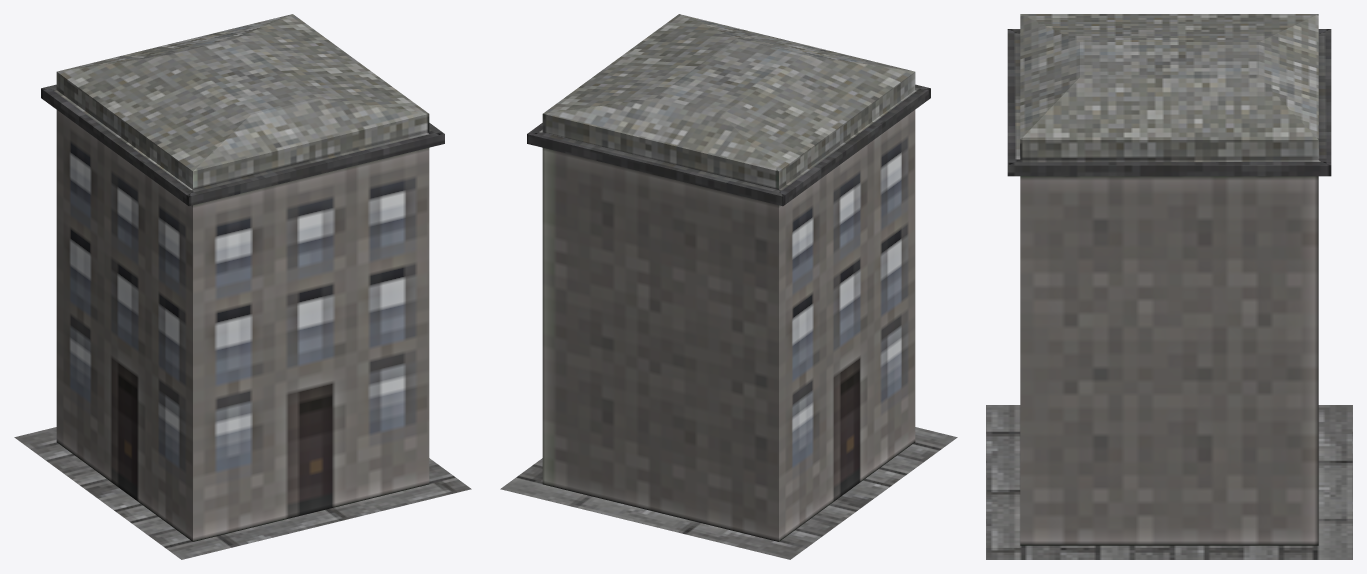
Rendered from Residential_01.obj.
3 views of the same model, side by side, from view 1: azimuth 30°, elevation 25°; view 2: azimuth 150°, elevation 25°; view 3: azimuth 270°, elevation 25° (orthographic). The views are drawn at different scales.
Parts seen in each view (by area): view 1: Building, Tile; view 2: Building, Tile; view 3: Building, Tile.
Boxes of the visible parts, left/top/right/bottom form: Building: left=41, top=14, right=444, bottom=541; Tile: left=14, top=427, right=471, bottom=559; Building: left=527, top=14, right=930, bottom=541; Tile: left=500, top=427, right=957, bottom=559; Building: left=1007, top=14, right=1331, bottom=545; Tile: left=986, top=405, right=1352, bottom=559.
Size of the model in its own units: 128 by 163 by 128.
